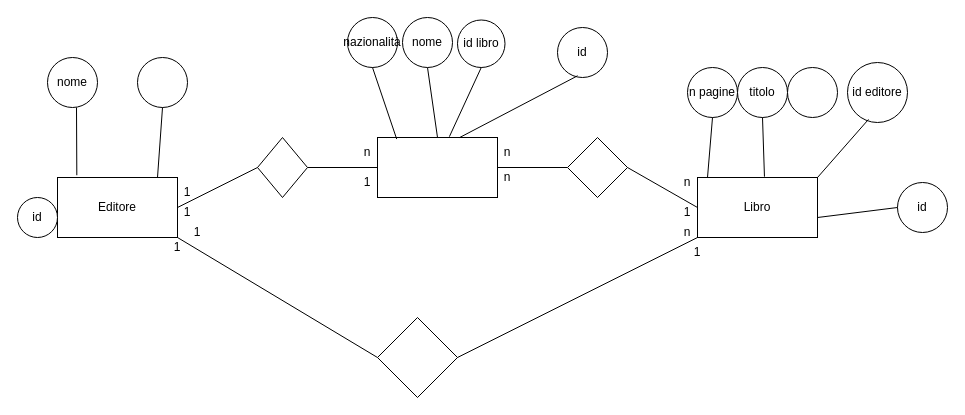
This 965x415 diagram has some shape labels left out. Here are the shapes that lost their labels. From the top down, the centre of each, then its label:
the point at 162,82: contatto
the point at 812,92: id autore
the point at 282,167: contratto
the point at 437,167: Autore
the point at 597,167: scrittura
the point at 417,357: pubblicazione
